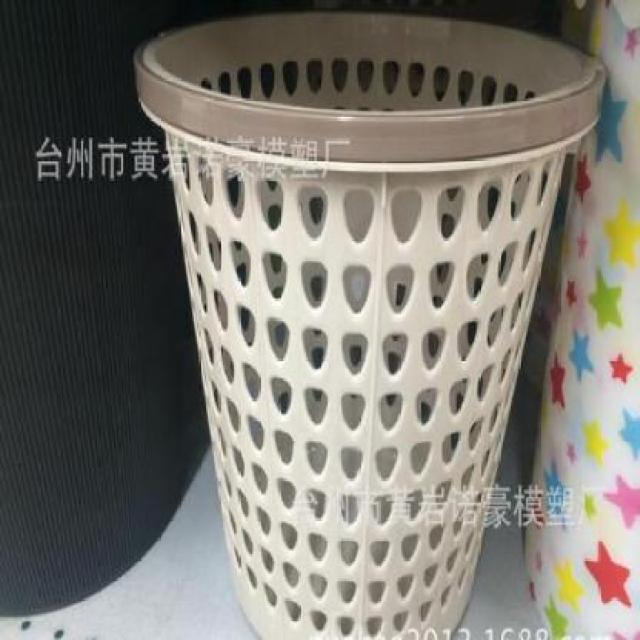dustbin: (129, 4, 607, 640)
